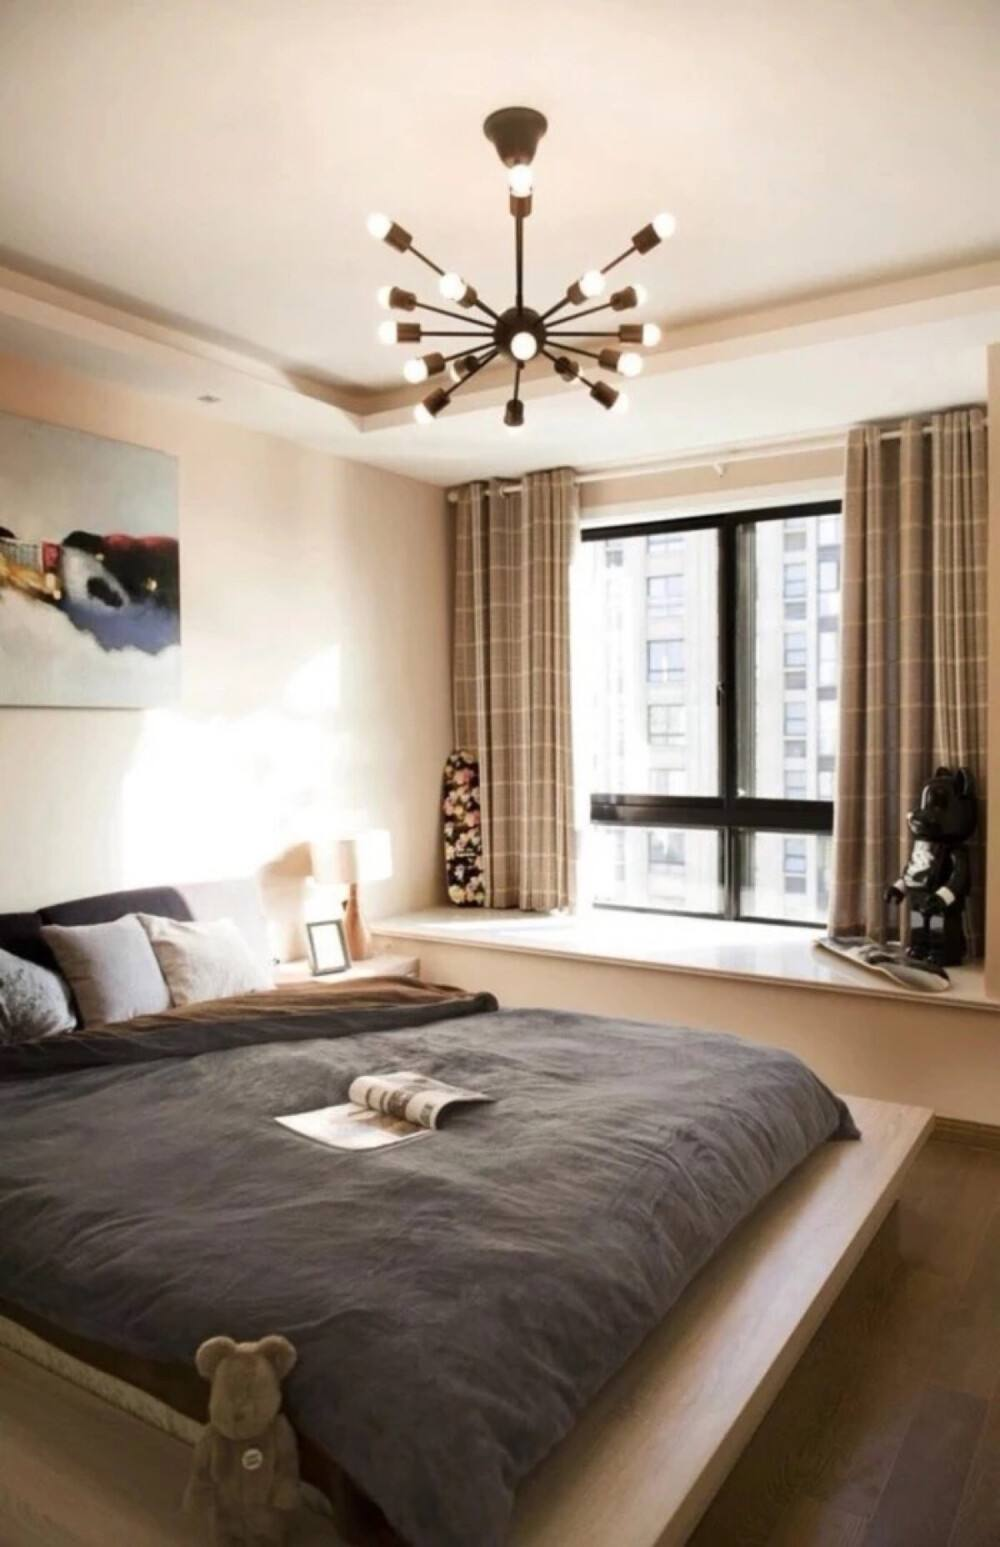床: (19, 1013, 890, 1519)
枕头: (15, 909, 262, 1041)
灯: (372, 101, 663, 437), (306, 823, 395, 960)
